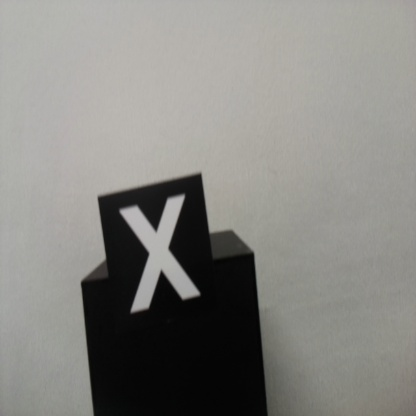id_13: (98, 191, 212, 324)
